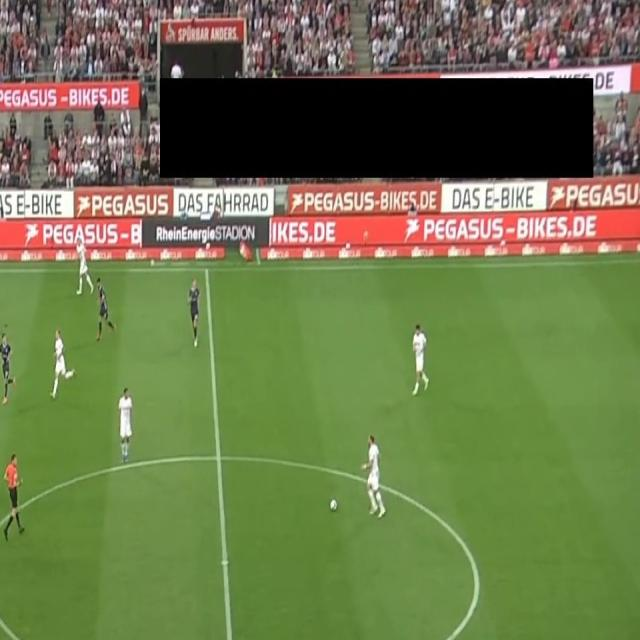ball: (330, 498, 338, 512)
